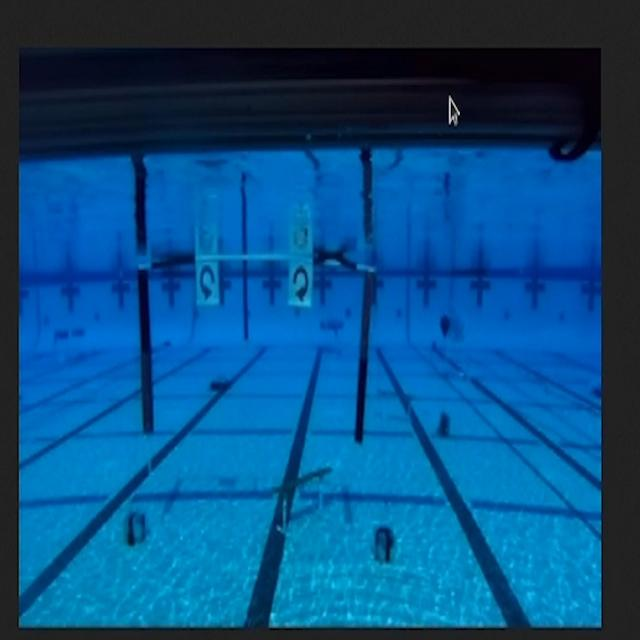Gate: (120, 235, 380, 462)
Path: (261, 455, 347, 537)
